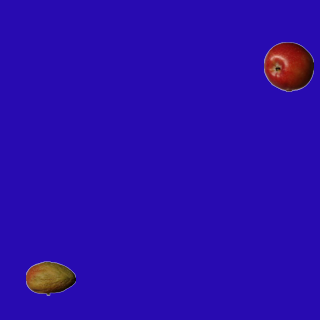Apple Braeburn: (263, 41, 313, 91)
Papaya: (25, 253, 75, 303)
